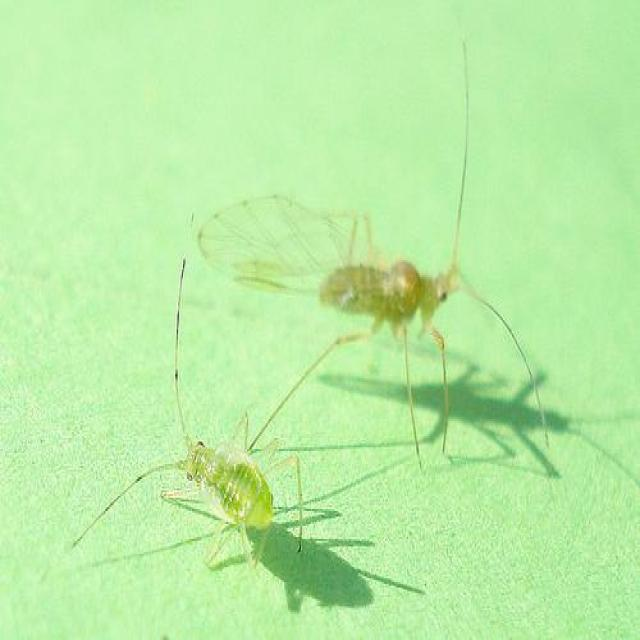Aphids: (209, 121, 557, 467), (102, 338, 328, 572)
